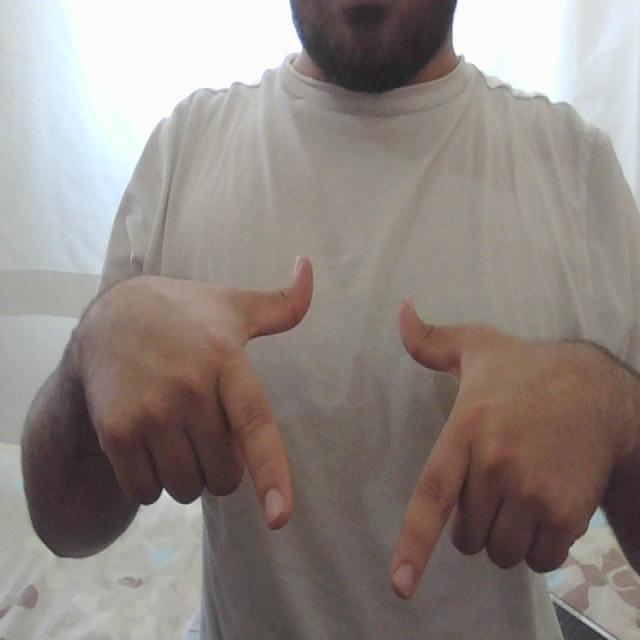Nerede: (211, 248, 488, 613)
